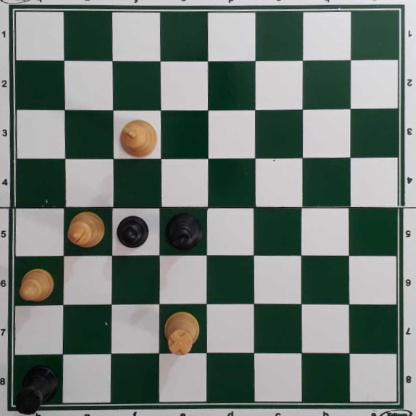black-king: (164, 212, 204, 252)
black-pawn: (118, 216, 149, 251)
black-rook: (16, 369, 61, 413)
white-bishop: (66, 211, 106, 250)
white-king: (119, 119, 160, 160)
white-pawn: (19, 268, 55, 304)
white-rook: (163, 312, 200, 354)
